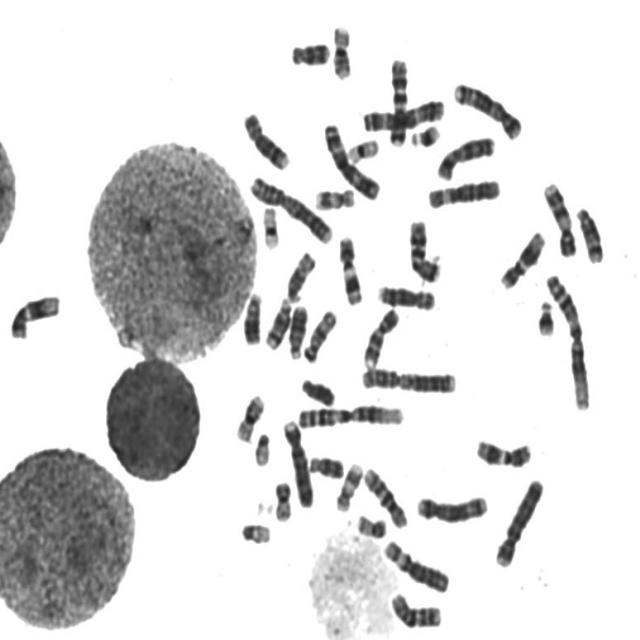A1: (541, 266, 593, 413), (292, 396, 406, 431)
A2: (245, 168, 334, 245), (356, 360, 460, 395)
A3: (319, 116, 382, 201), (358, 92, 447, 133)
B4: (490, 471, 546, 569), (279, 412, 316, 510)
B5: (449, 75, 524, 140), (412, 488, 490, 525)
C10: (359, 461, 410, 530), (385, 585, 444, 631)
C11: (334, 228, 365, 306), (471, 432, 534, 469)
C12: (496, 223, 548, 290), (5, 286, 63, 341)
C6: (378, 533, 452, 595), (422, 171, 502, 210)
C7: (404, 212, 443, 284), (384, 51, 411, 149)
C8: (238, 105, 291, 171), (373, 278, 437, 312)
C9: (538, 175, 578, 258), (359, 301, 401, 370)
D13: (239, 284, 265, 346), (285, 298, 310, 360)
D14: (572, 200, 606, 265), (260, 292, 292, 351)
D15: (299, 303, 339, 363), (282, 244, 317, 303)
E16: (231, 386, 266, 444), (327, 18, 354, 80)
E17: (332, 456, 364, 514), (311, 181, 357, 211)
E18: (286, 35, 332, 67), (304, 448, 346, 479)
F19: (344, 131, 381, 164), (258, 199, 281, 250)
F20: (270, 474, 294, 524), (352, 508, 389, 540)
G21: (532, 292, 558, 338), (405, 117, 442, 149)
G22: (236, 515, 273, 546), (250, 426, 272, 466)
X: (432, 128, 497, 182)
